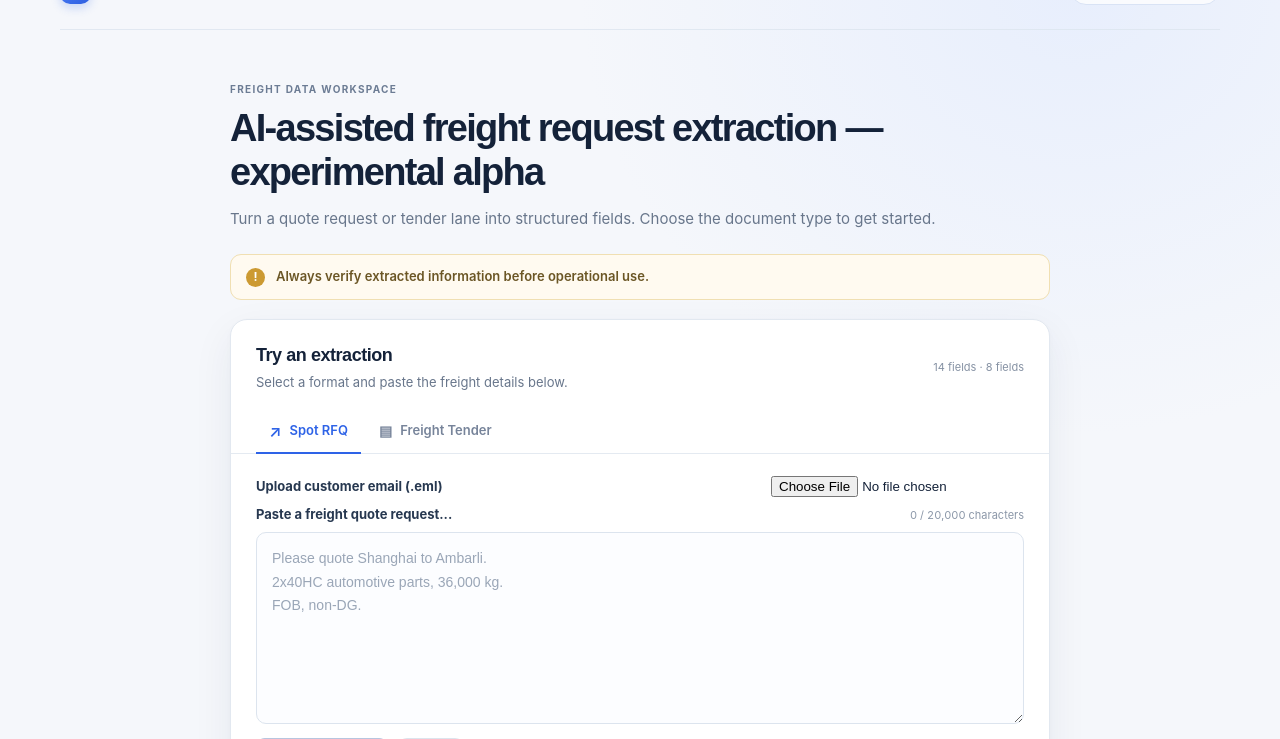
Test: RFQ review and pricing › shows domain errors from pricing
The image size is (1280, 739).
Replace the text in the text box with placeholder "Please quote Shanghai" with "Synthetic RFQ" at (640, 628), box x1=256 y1=532 x2=1024 y2=724
(page scrolled)
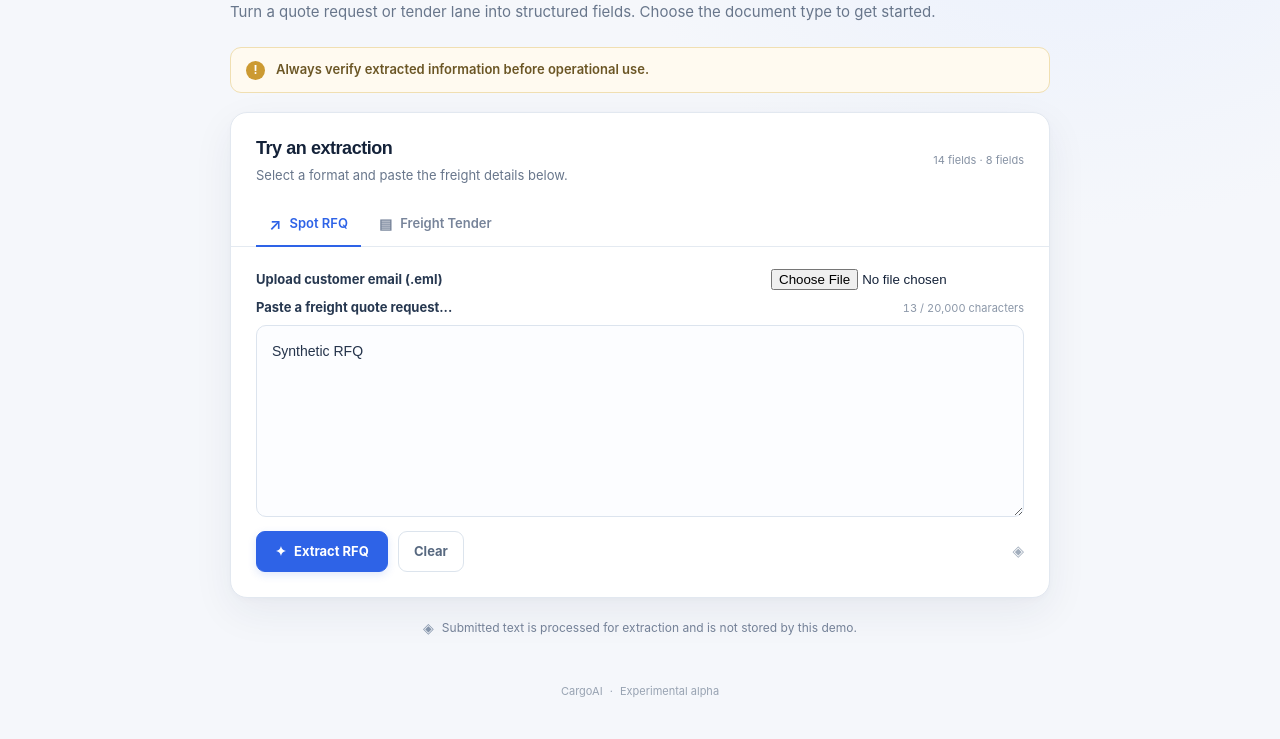
Click the button "✦ Extract RFQ".
click(322, 552)  # box x1=256 y1=531 x2=388 y2=572
(page scrolled)
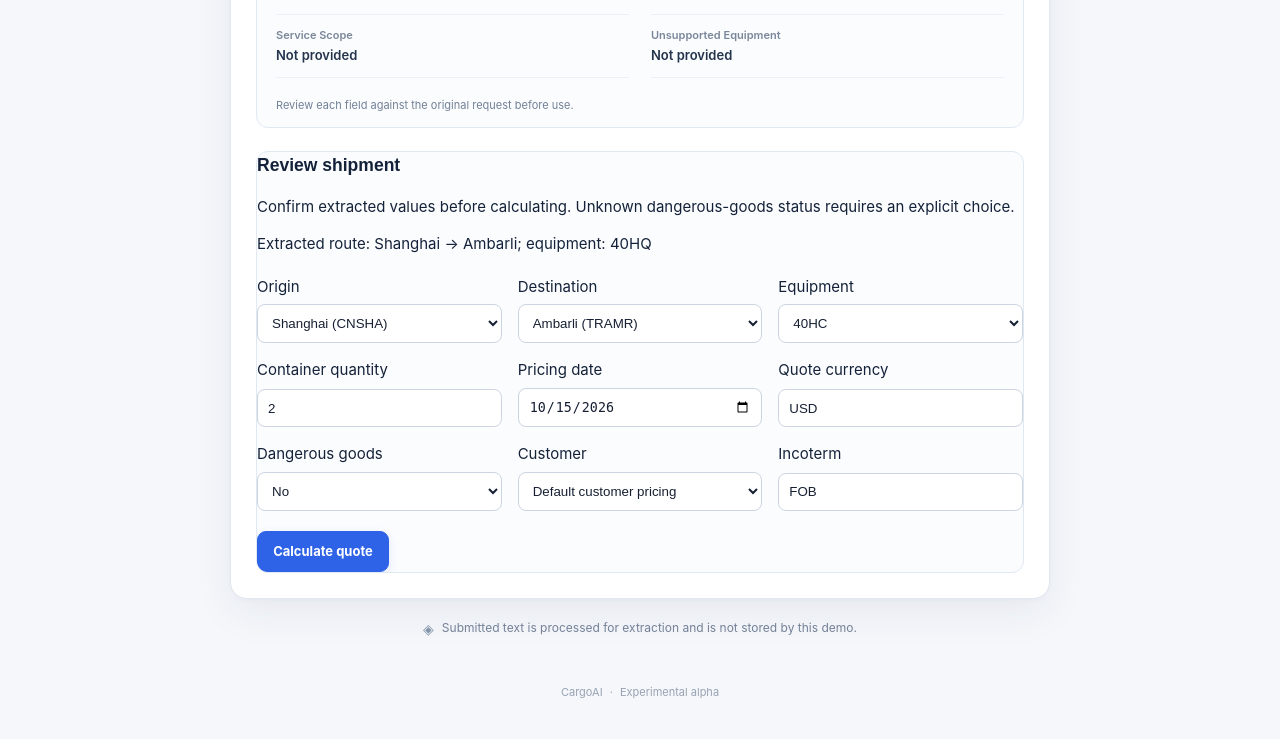
Expected: the button "Calculate quote" is enabled
Click the button "Calculate quote".
click(323, 551)  # box x1=257 y1=531 x2=389 y2=572
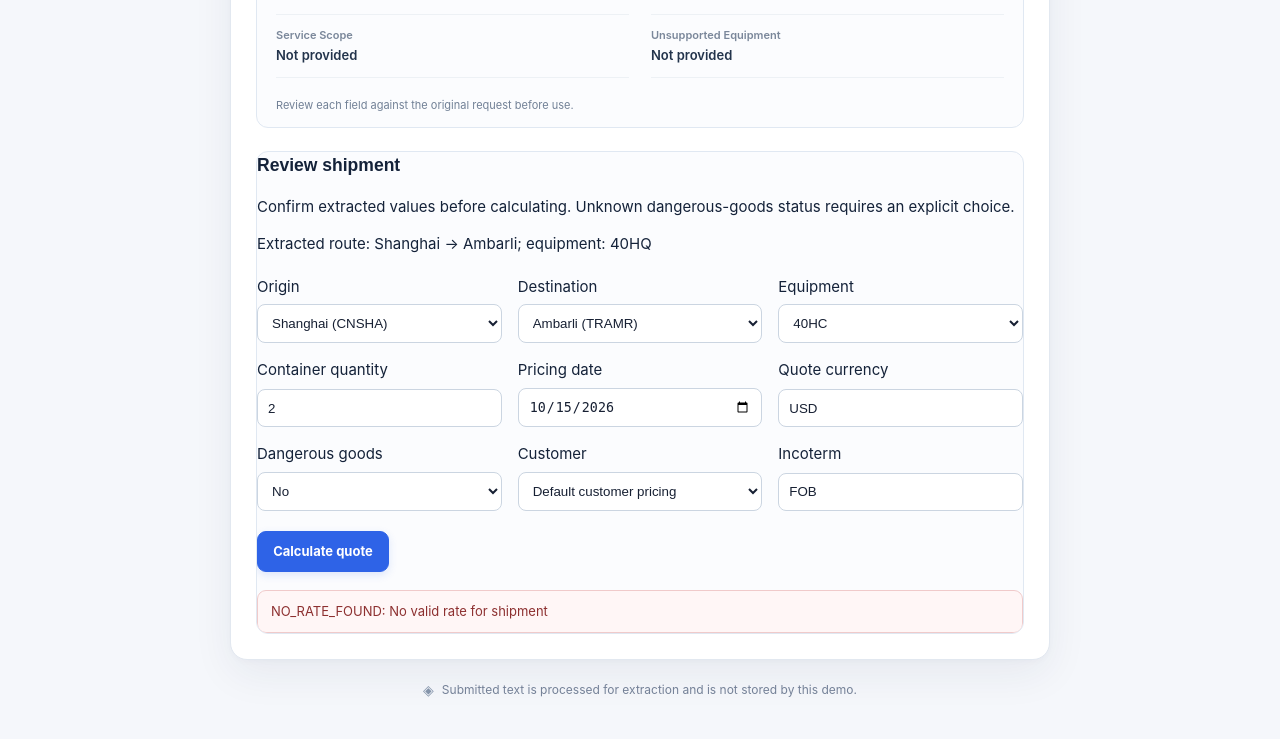
Expected: the message shows "NO_RATE_FOUND", x1=271 y1=603 x2=548 y2=619
